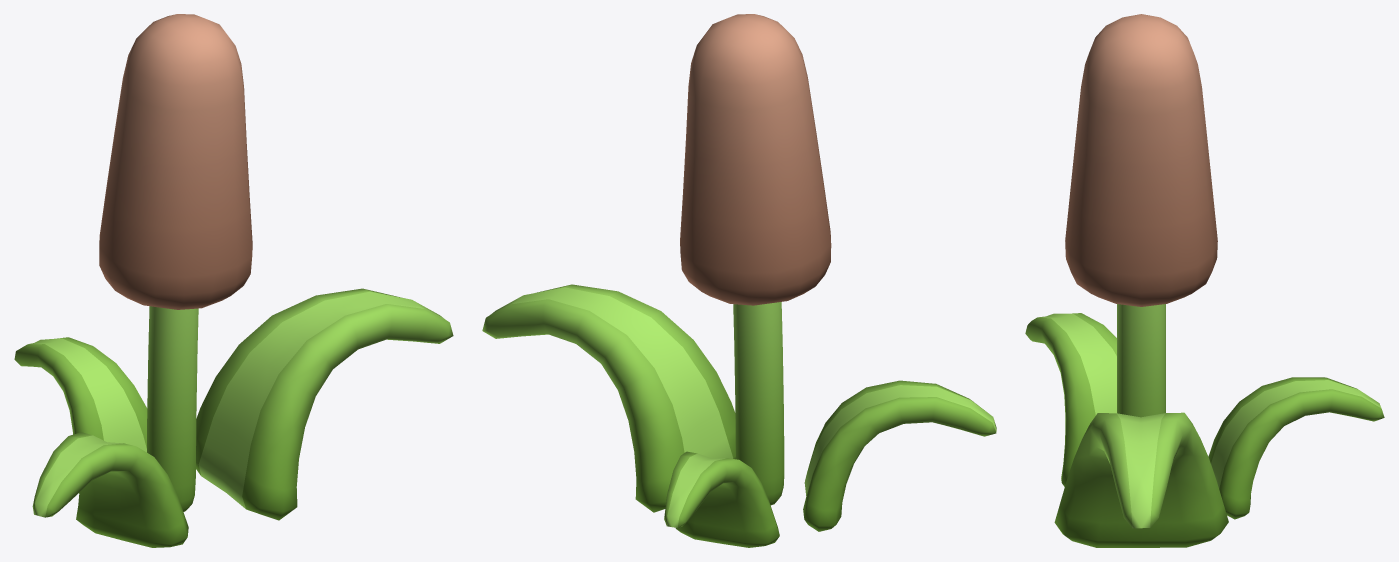
The model's file is reeds_1.fbx.
The picture shows the model from 3 angles, left to right: view 1: azimuth 30°, elevation 25°; view 2: azimuth 150°, elevation 25°; view 3: azimuth 270°, elevation 25°; orthographic projection.
Parts seen in each view (by area): view 1: reeds_1; view 2: reeds_1; view 3: reeds_1.
Boxes of the visible parts, x1,y1,x2,y2 form: reeds_1: (14,14,453,547); reeds_1: (482,14,996,547); reeds_1: (1025,14,1384,547).
Size of the model in its own units: 104 by 104 by 68.9.
1 material, 1 textured.
